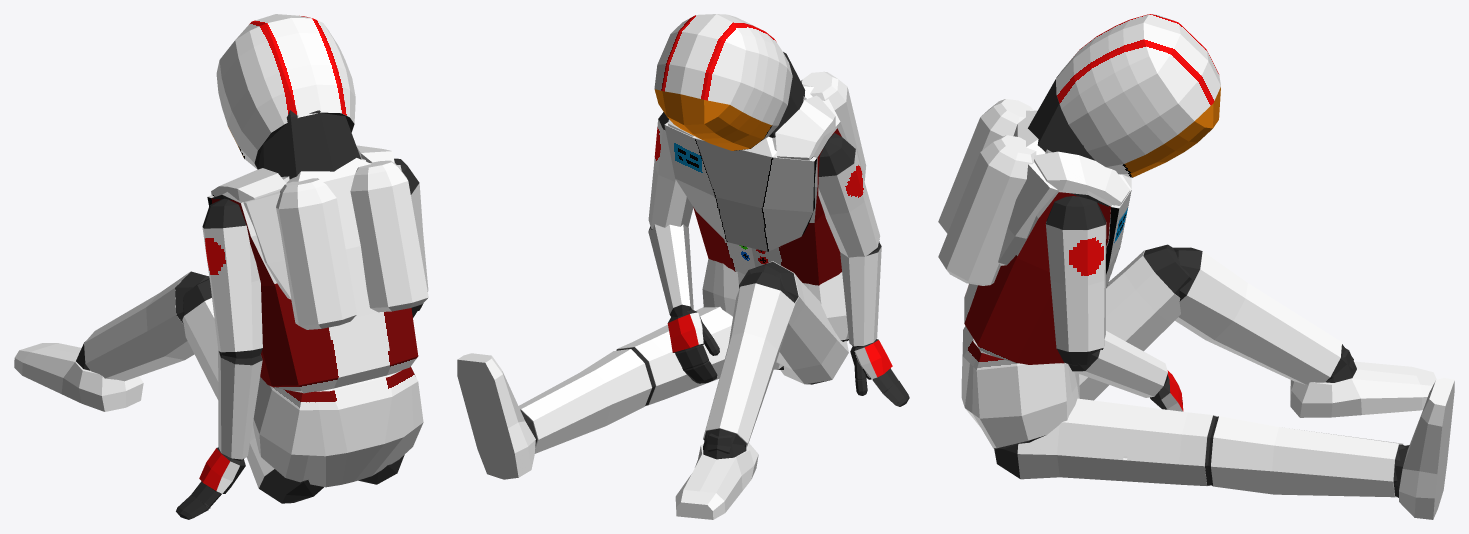
The model's file is DeadSpaceSuit.gltf.
3 views of the same model, side by side, from view 1: azimuth 30°, elevation 25°; view 2: azimuth 150°, elevation 25°; view 3: azimuth 270°, elevation 25° (orthographic). The views are drawn at different scales.
Parts seen in each view (by area): view 1: cylinder, Pelvis, Head, Torso, Left Lower Leg, Left Upper Arm, Neck, Left Foot, Left Lower Arm, sphere (×4), Left Upper Leg, Palm (+1 smaller); view 2: cylinder, Head, Left Lower Leg, Right Lower Leg, Right Foot, Torso, Left Upper Leg, Left Upper Arm, Left Foot, Right Upper Leg, Left Lower Arm, Pelvis (+5 smaller); view 3: Head, cylinder, Right Upper Leg, Right Lower Leg, Left Lower Leg, Torso, Pelvis, Right Upper Arm, Left Foot, Left Upper Leg, Right Foot, sphere (×3) (+3 smaller).
Boxes of the visible parts, x1,y1,x2,y2 form: cylinder: (207, 145, 428, 329); Pelvis: (253, 366, 423, 487); Head: (216, 14, 355, 169); Torso: (211, 158, 418, 393); Left Lower Leg: (84, 271, 194, 381); Left Upper Arm: (202, 225, 262, 352); Neck: (258, 110, 361, 179); Left Foot: (14, 343, 143, 411); Left Lower Arm: (218, 350, 262, 459); sphere (×4): (175, 198, 323, 503); Left Upper Leg: (182, 298, 274, 488); Palm: (199, 448, 245, 493); cylinder: (664, 71, 866, 251); Head: (654, 14, 792, 150); Left Lower Leg: (703, 283, 794, 447); Right Lower Leg: (518, 349, 651, 453); Right Foot: (457, 353, 535, 479); Torso: (668, 96, 841, 285); Left Upper Leg: (767, 261, 848, 384); Left Upper Arm: (818, 149, 880, 257); Left Foot: (675, 443, 758, 519); Right Upper Leg: (616, 306, 732, 405); Left Lower Arm: (840, 247, 881, 346); Pelvis: (702, 258, 848, 369); Head: (1056, 14, 1220, 177); cylinder: (938, 99, 1131, 288); Right Upper Leg: (1017, 398, 1217, 485); Right Lower Leg: (1211, 416, 1403, 497); Left Lower Leg: (1175, 249, 1341, 384); Torso: (964, 149, 1111, 364); Pelvis: (961, 326, 1079, 448); Right Upper Arm: (1046, 222, 1106, 351); Left Foot: (1290, 361, 1436, 417); Left Upper Leg: (1079, 250, 1180, 400); Right Foot: (1399, 378, 1454, 519); sphere (×3): (1046, 196, 1202, 301).
Bounding box in the file's own units: 0.3616 × 0.5006 × 0.5256.
Materials: 5 (5 with a texture image).
